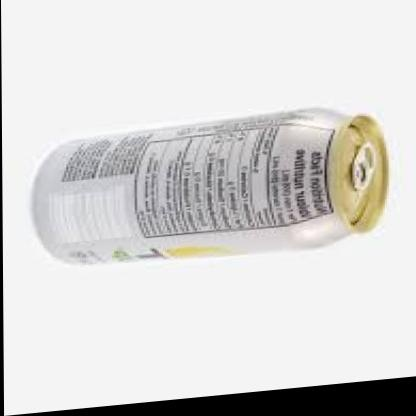trash: (33, 109, 387, 262)
